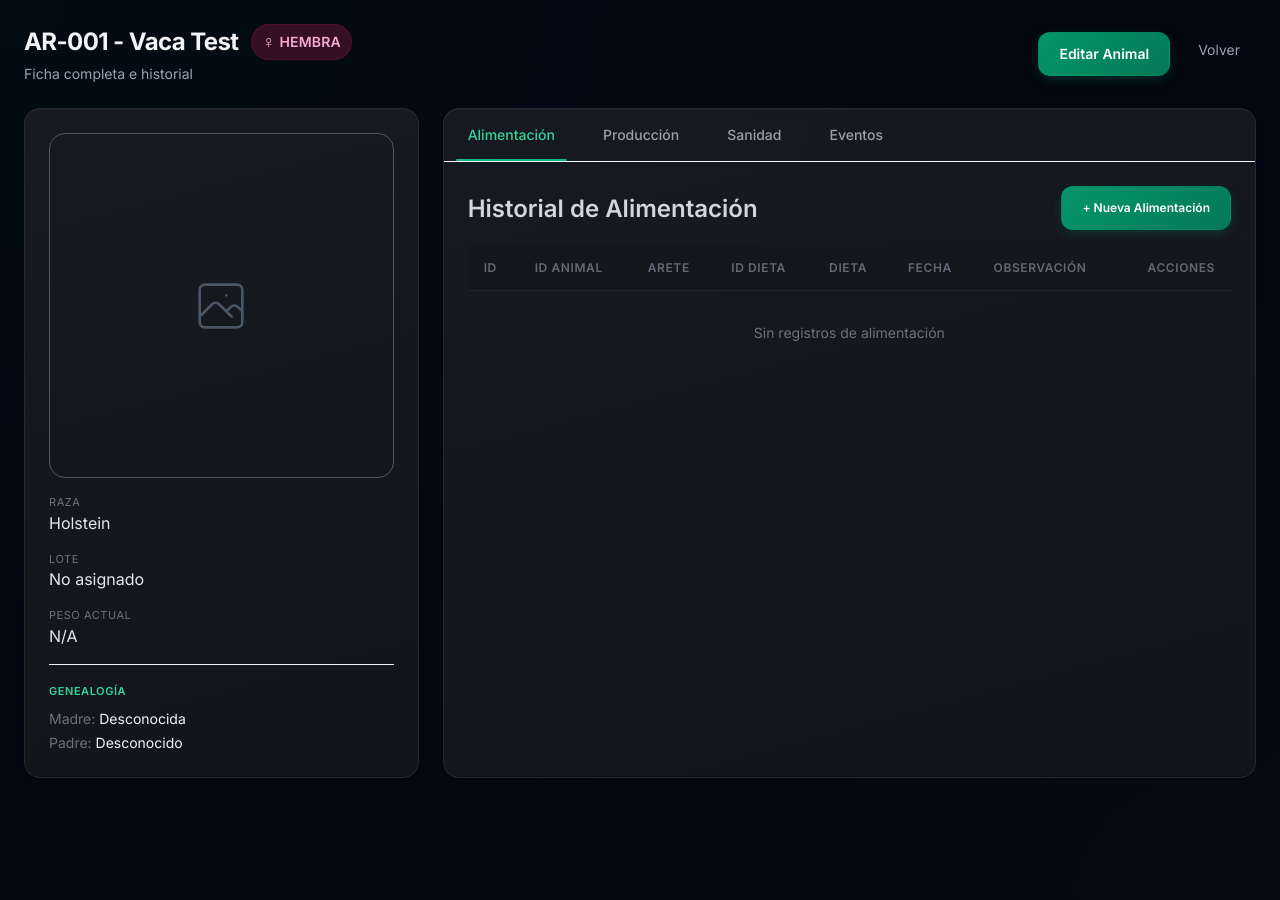
Test: GanadoDetail - Botones Añadir Registro › renderiza botón "+ Nueva Producción" en tab Producción
expect the heading "AR-001 - Vaca Test ♀ HEMBRA" is shown: met, box [24,24,352,60]
Click Producción tab
What coordinates should you click on to do the following:
click the button "Producción"
I would click on:
 (641, 135)
Its box is [579,109,703,161].
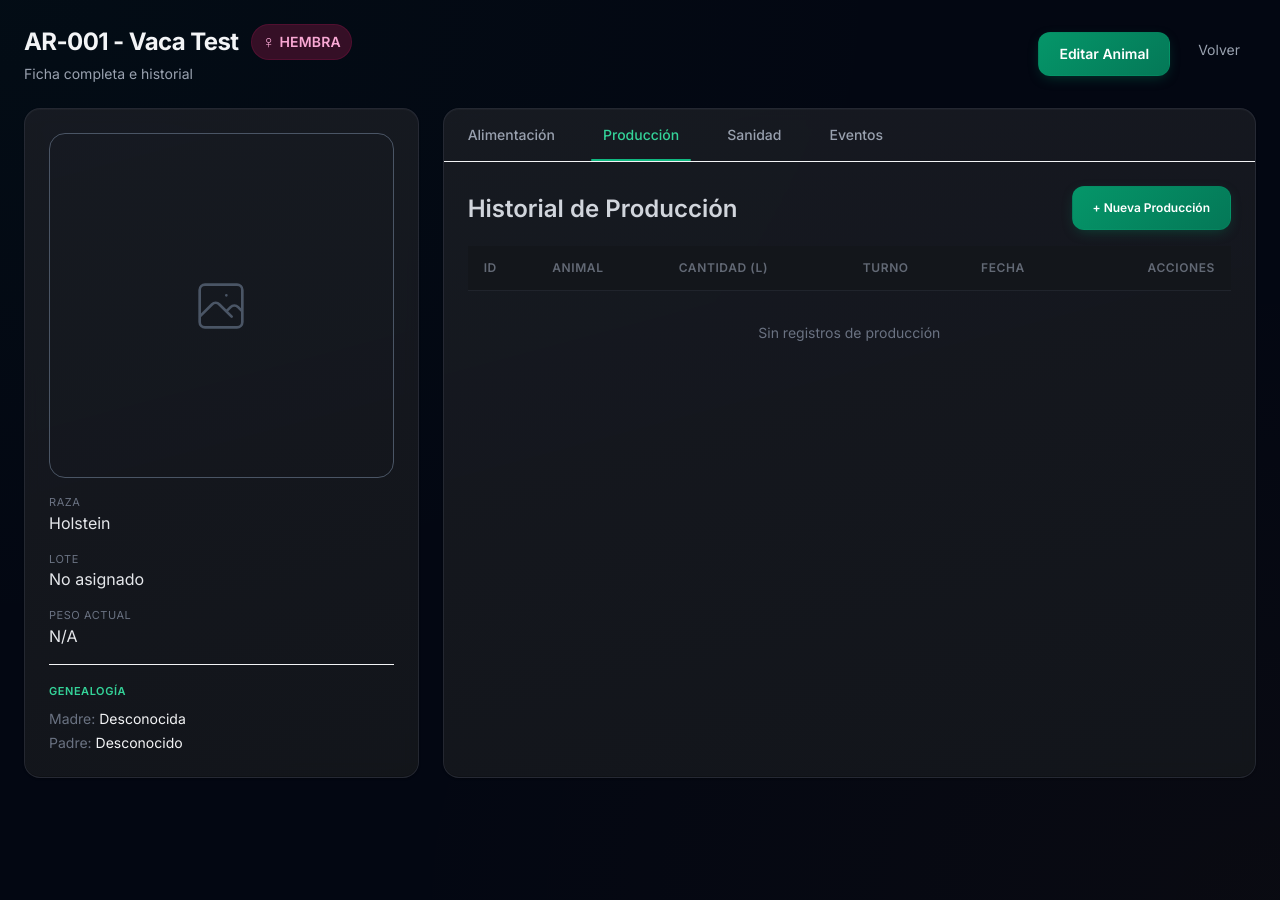
expect the button "+ Nueva Producción" is shown: met, box [1072,186,1231,230]
